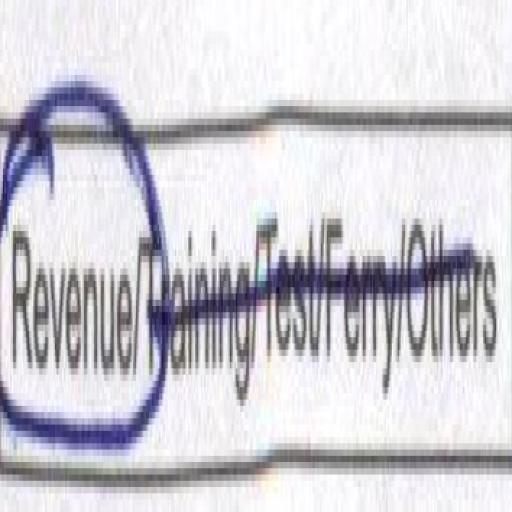check: (0, 62, 140, 505)
